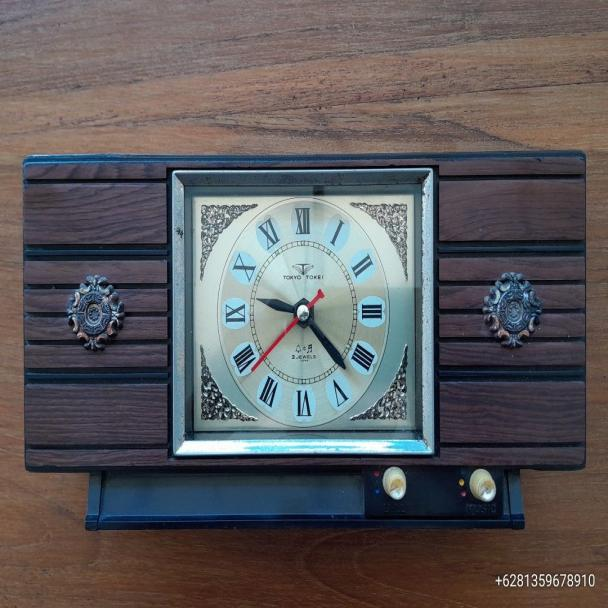Jam: (171, 167, 436, 453)
